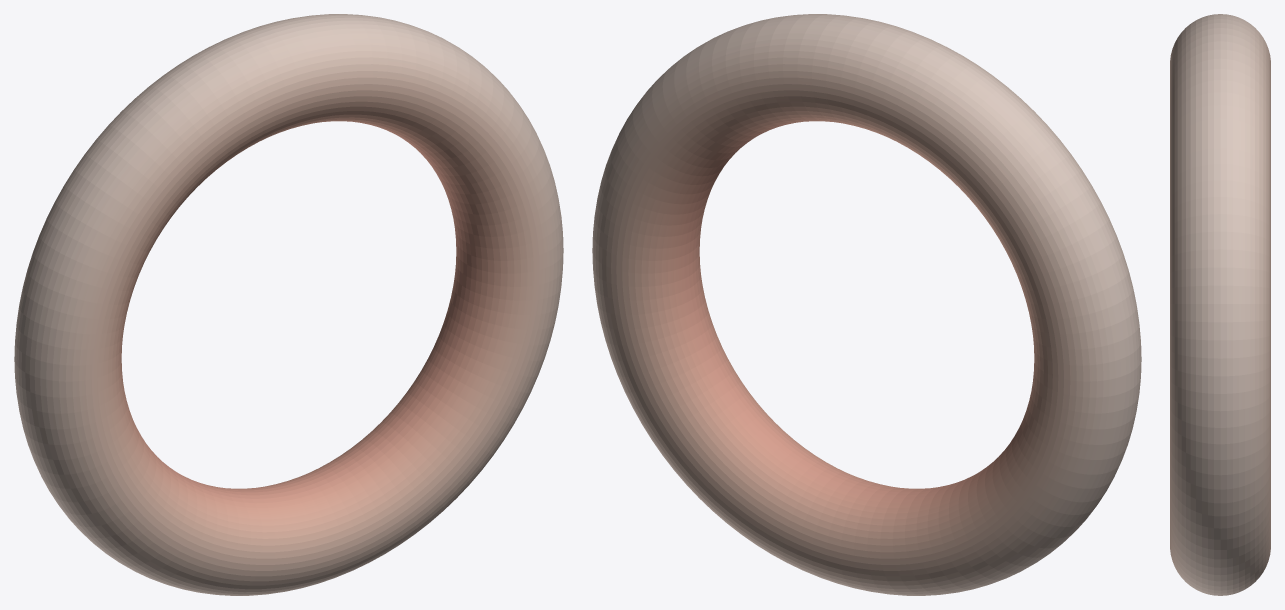
3 renders of one model, left to right at view 1: azimuth 30°, elevation 25°; view 2: azimuth 150°, elevation 25°; view 3: azimuth 270°, elevation 25°, orthographic. The views are drawn at different scales.
Visible parts, largest first — view 1: world; view 2: world; view 3: world.
Boxes of the visible parts, x1,y1,x2,y2 form: world: [14, 14, 563, 595]; world: [592, 14, 1141, 595]; world: [1170, 14, 1270, 595].
Bounding box in the file's own units: 31.47 × 31.47 × 5.46.
